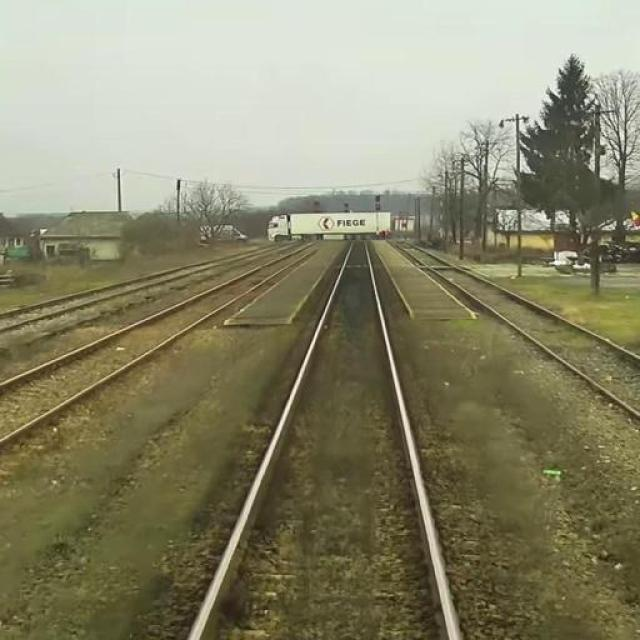vehicle: (265, 210, 396, 243)
